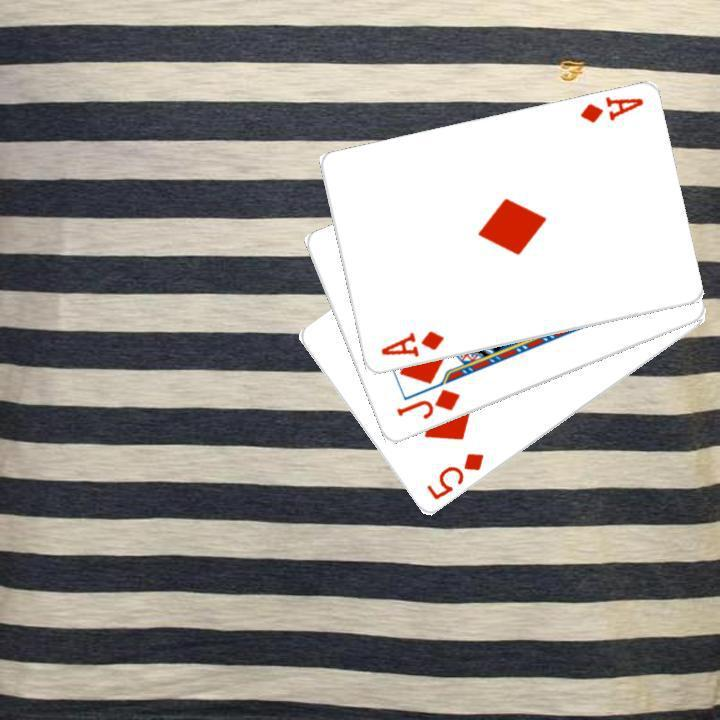5: (421, 449, 486, 503)
A: (376, 327, 446, 360), (575, 94, 645, 126)
J: (392, 385, 462, 422)
